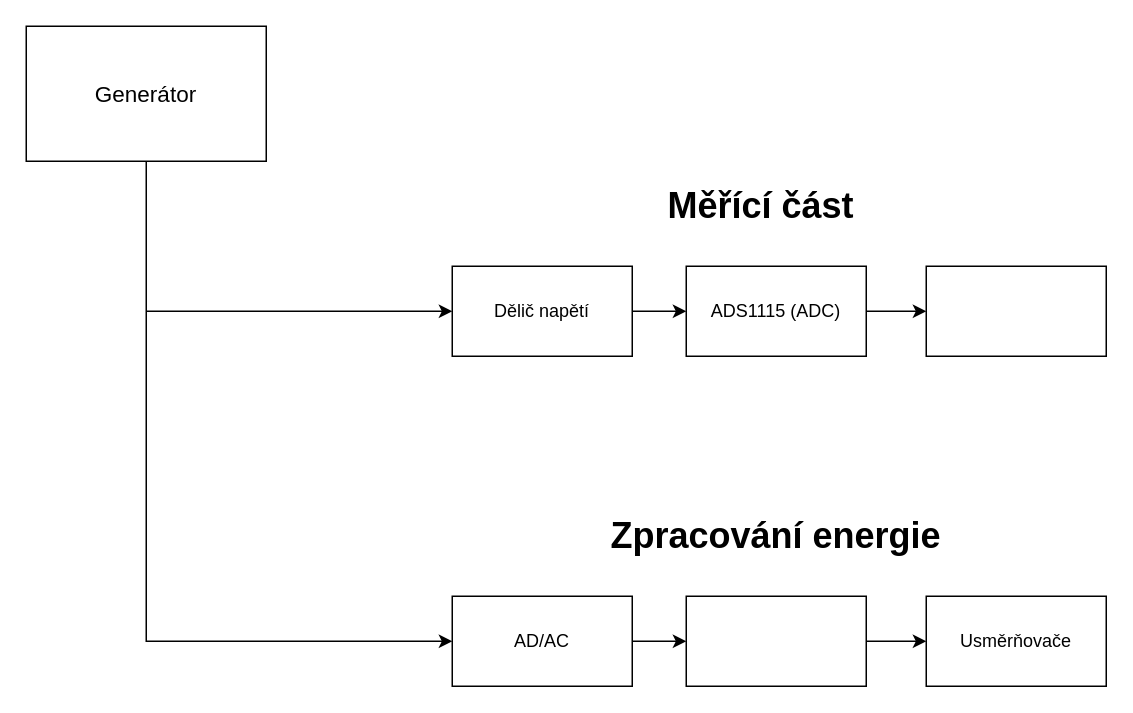
Image size: 1133x713. Some labels were removed from this diagram. The box of each missing label's shape, as (x1, y1, x2, y2) in pixels:
ESP32: (925, 265, 1106, 356)
Transformátory: (685, 595, 866, 686)
